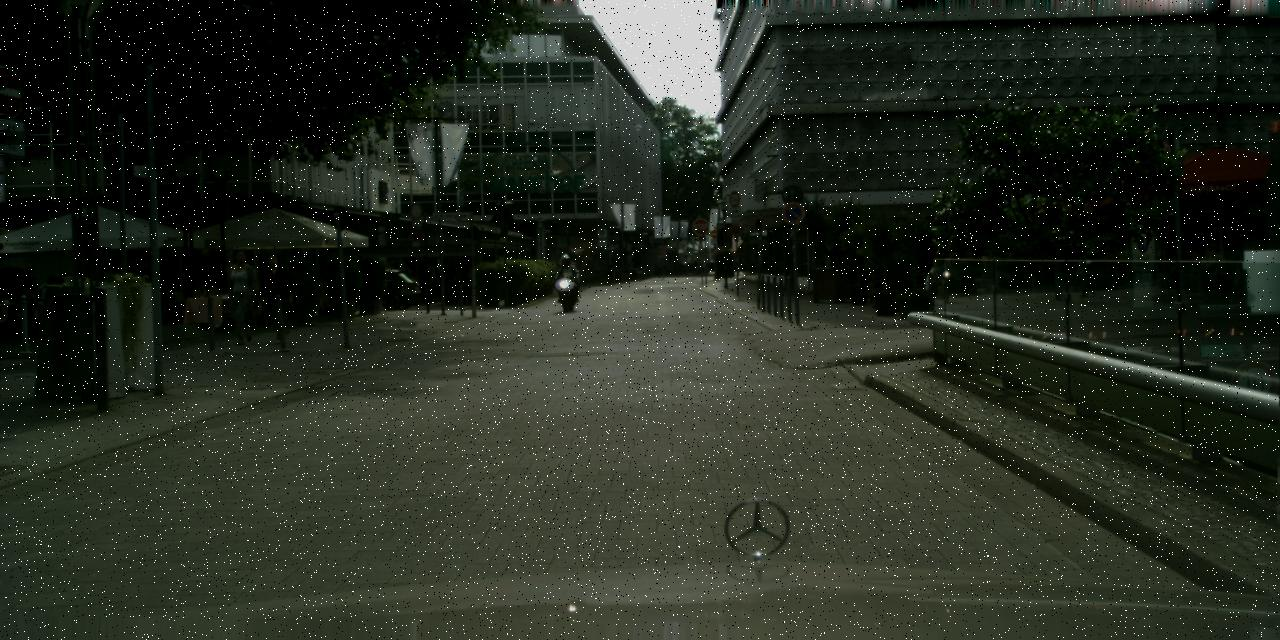ped: (224, 250, 260, 340), (260, 254, 294, 338), (558, 253, 577, 301), (13, 279, 43, 305), (1189, 243, 1224, 260), (925, 264, 934, 290), (42, 278, 52, 284), (951, 253, 962, 256), (983, 258, 996, 260), (950, 257, 969, 258), (938, 254, 946, 255)
